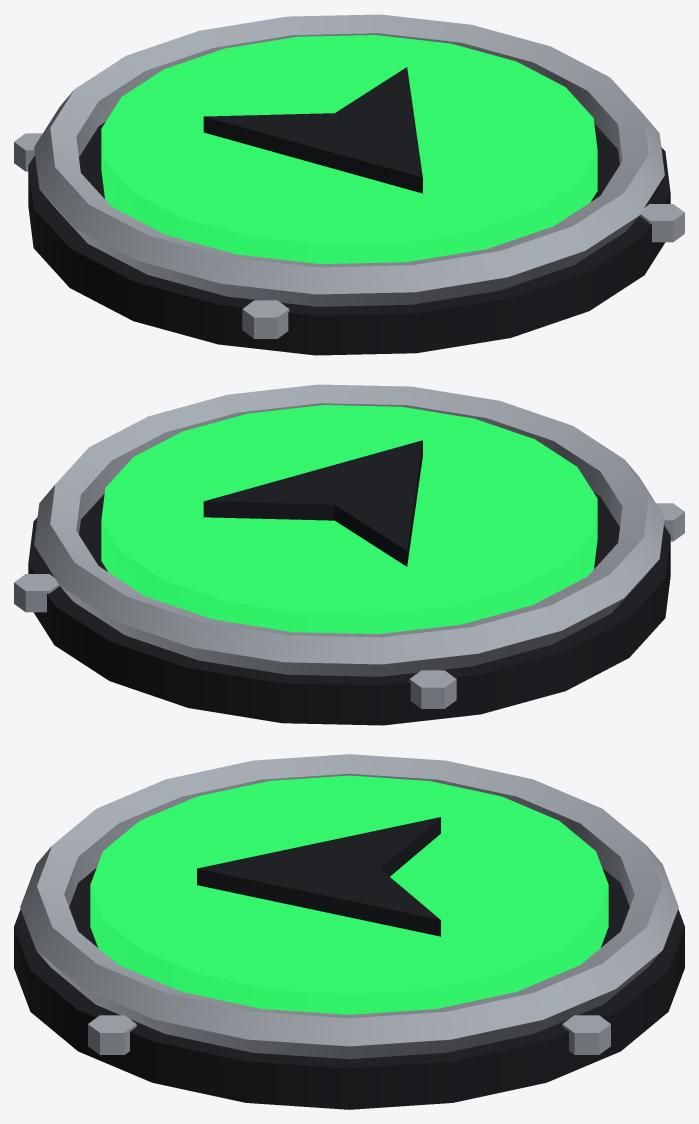
Rendered from warnlight_floor_guide_disc.glb.
3 views of the same model, one above another, from view 1: azimuth 30°, elevation 25°; view 2: azimuth 150°, elevation 25°; view 3: azimuth 270°, elevation 25° (orthographic). The views are drawn at different scales.
Parts seen in each view (by area): view 1: warnlight_floor_guide_disc; view 2: warnlight_floor_guide_disc; view 3: warnlight_floor_guide_disc.
Boxes of the visible parts, left/top/right/bottom form: warnlight_floor_guide_disc: left=14, top=14, right=684, bottom=355; warnlight_floor_guide_disc: left=14, top=384, right=684, bottom=725; warnlight_floor_guide_disc: left=14, top=754, right=684, bottom=1109.
Bounding box in the file's own units: 0.22 × 0.036 × 0.22.
